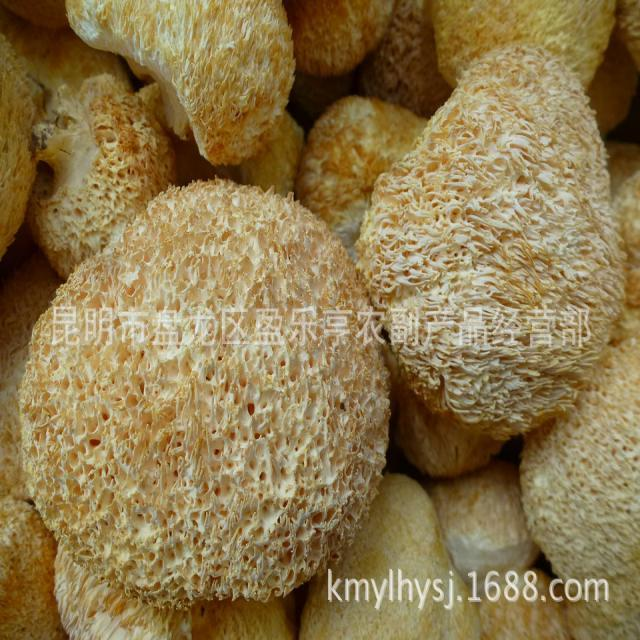Hericium erinaceus: (16, 179, 388, 605), (360, 46, 628, 432), (63, 0, 298, 162), (302, 474, 485, 638), (33, 79, 167, 278)
